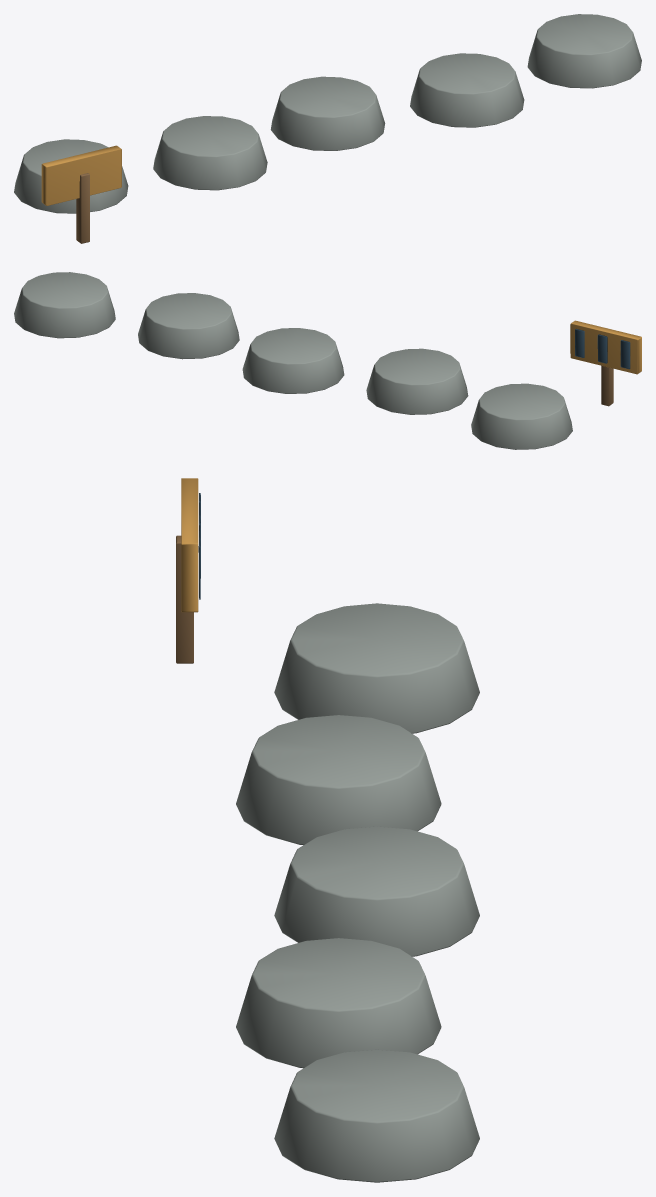
Rendered from stepstones_stage3.glb.
3 renders of one model, top to bottom at view 1: azimuth 30°, elevation 25°; view 2: azimuth 150°, elevation 25°; view 3: azimuth 270°, elevation 25°, orthographic. The views are drawn at different scales.
Bounding box in the file's own units: 5.52 × 0.69 × 1.27.
